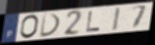2: (63, 8, 84, 38)
7: (131, 5, 148, 30)
D: (39, 13, 63, 38)
I: (111, 6, 122, 32)
L: (85, 10, 102, 33)
O: (19, 14, 40, 40)
